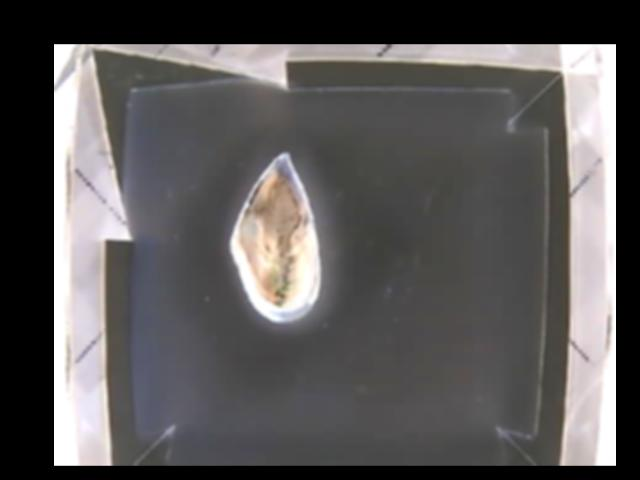Shell: (230, 150, 320, 322)
